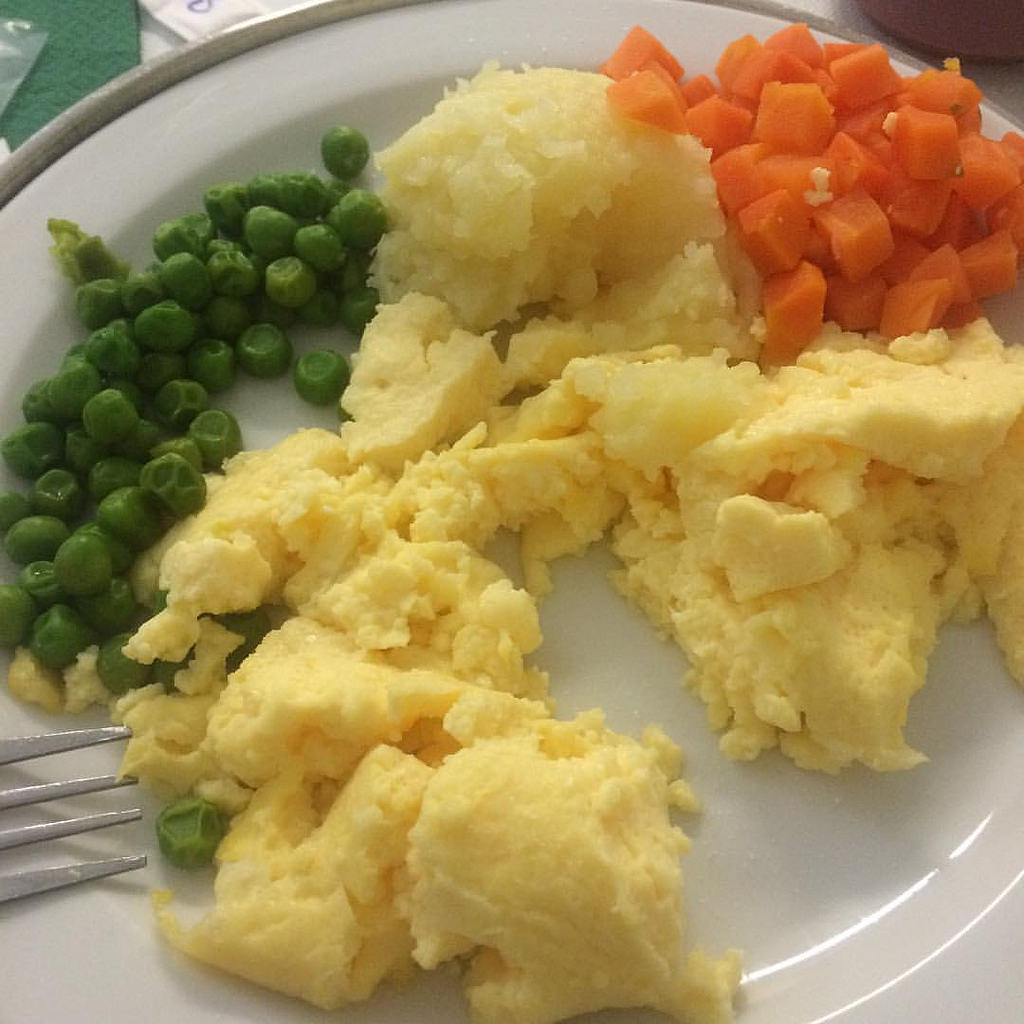boiled peas: (93, 312, 196, 491)
boiled potatoes: (463, 127, 660, 473), (711, 427, 911, 689), (332, 614, 514, 896)
